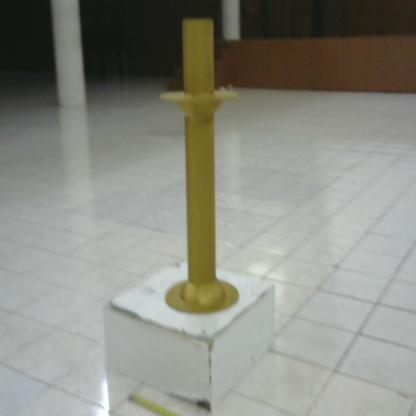pole: (155, 13, 251, 324)
